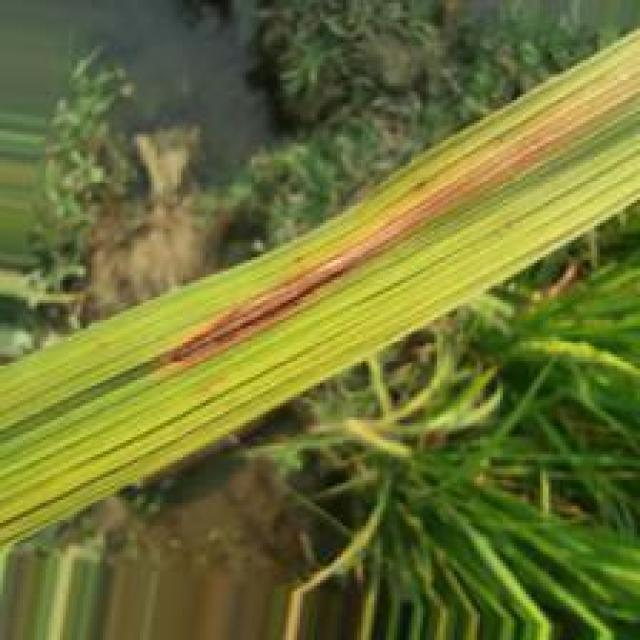Leaf_Blast: (133, 72, 640, 388)
